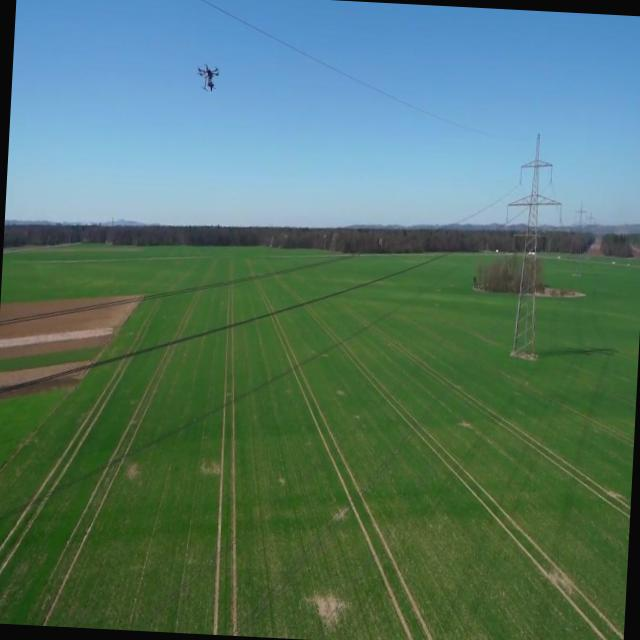drone: (197, 64, 220, 95)
